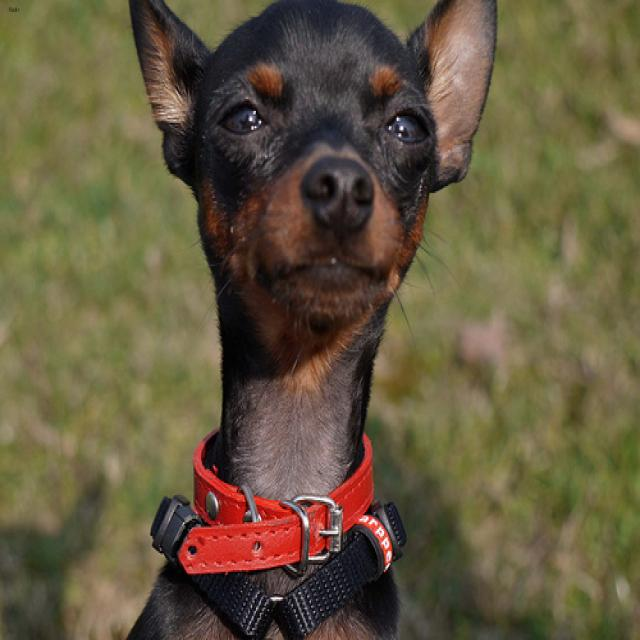dog-miniature_pinscher: (114, 2, 517, 637)
